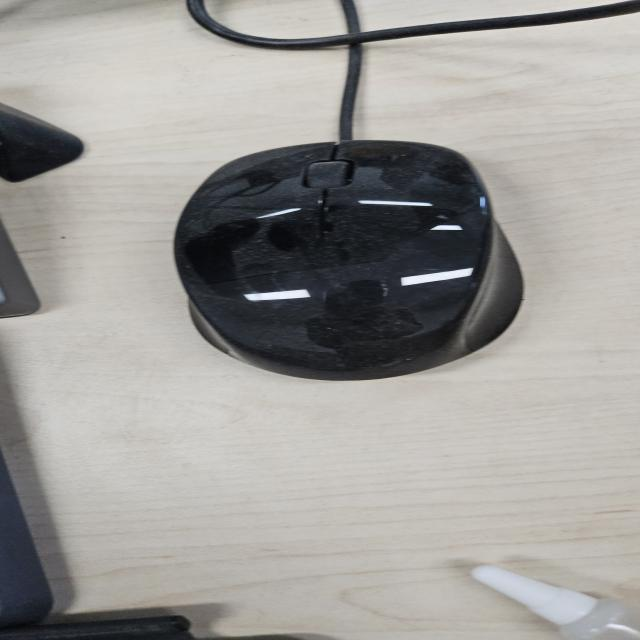Mouse: (169, 138, 529, 382)
